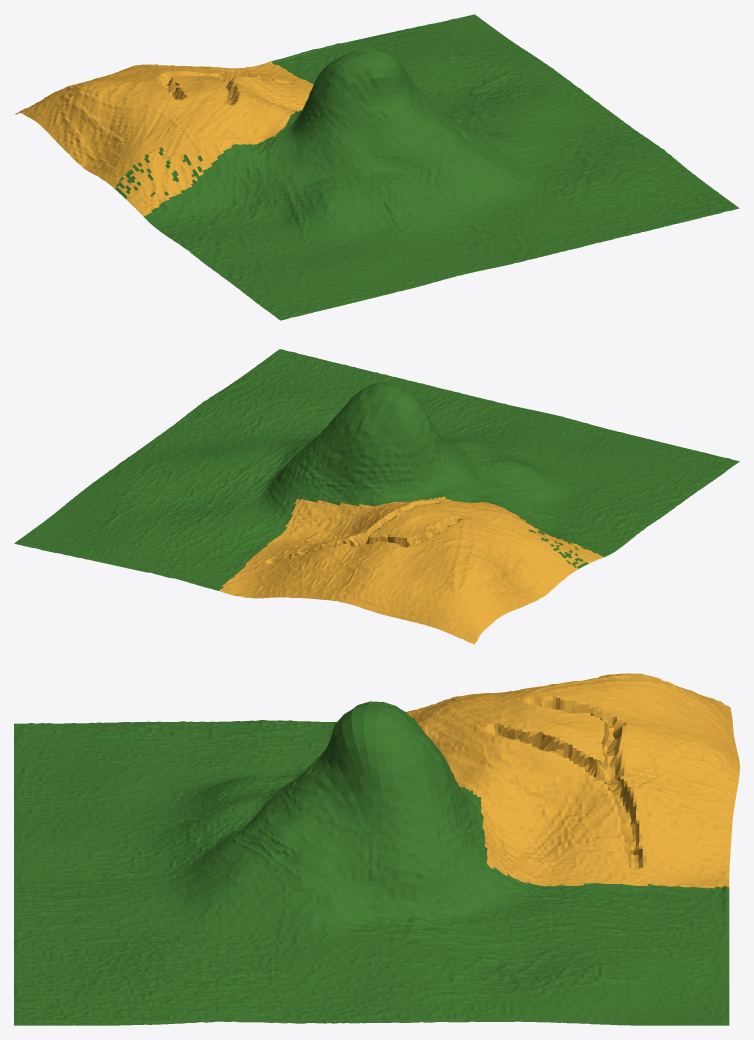
File: low poly terrain.fbx
3 views of the same model, one above another, from view 1: azimuth 30°, elevation 25°; view 2: azimuth 150°, elevation 25°; view 3: azimuth 270°, elevation 25° (orthographic). The views are drawn at different scales.
Parts seen in each view (by area): view 1: Plane; view 2: Plane; view 3: Plane.
Part boxes in pixels (x1=…): Plane: x1=15, y1=14, x2=739, y2=320; Plane: x1=14, y1=349, x2=739, y2=644; Plane: x1=14, y1=673, x2=739, y2=1025.
Size of the model in its own units: 7761 by 1900 by 7837.
